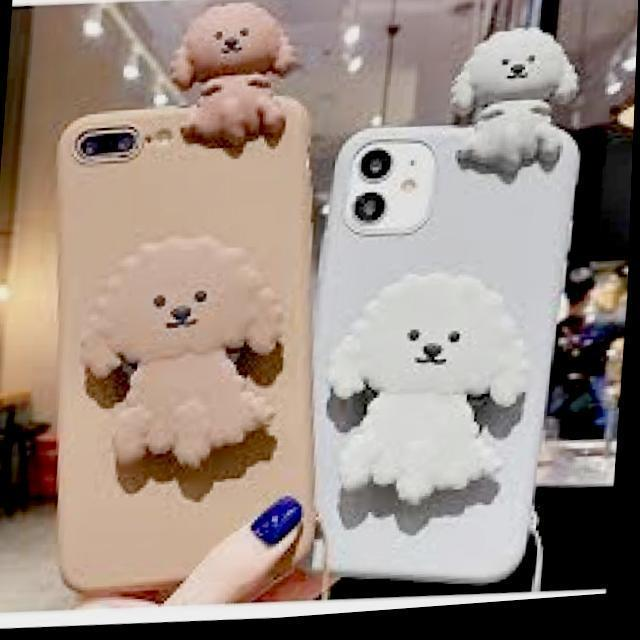phone: (299, 119, 583, 588), (48, 94, 311, 597)
